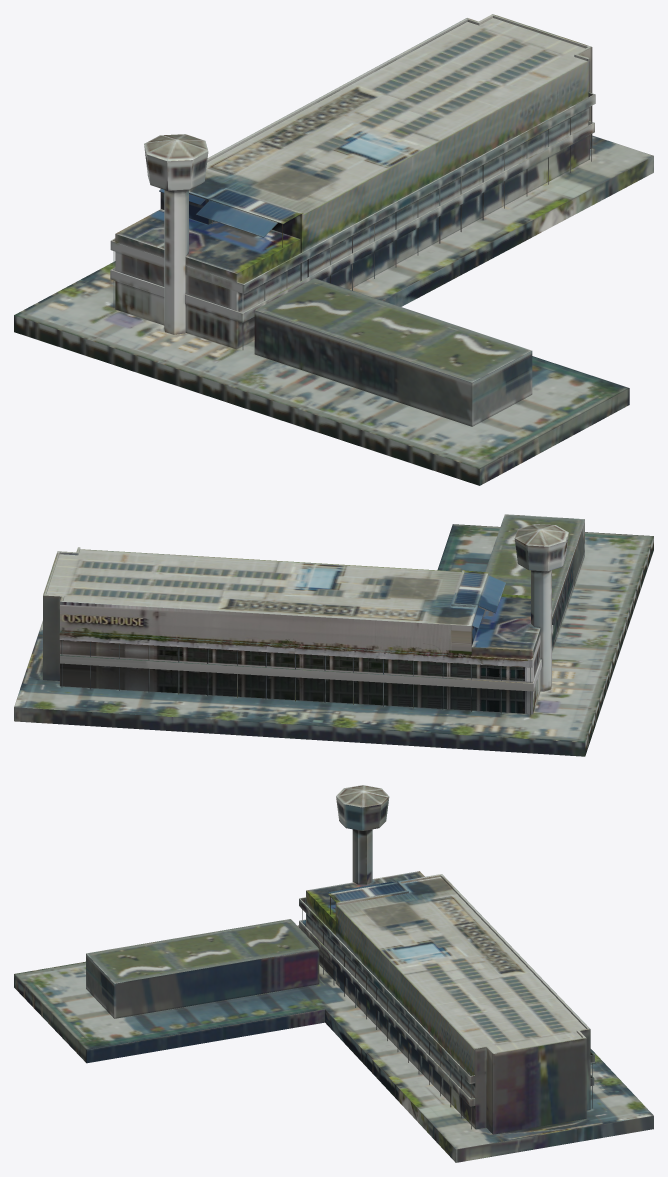
3 renders of one model, top to bottom at view 1: azimuth 30°, elevation 25°; view 2: azimuth 150°, elevation 25°; view 3: azimuth 270°, elevation 25°, orthographic. The views are drawn at different scales.
Parts seen in each view (by area): view 1: 8_0.glb; view 2: 8_0.glb; view 3: 8_0.glb.
Boxes of the visible parts, <box> form: 8_0.glb: <box>14,14,653,485</box>; 8_0.glb: <box>14,514,653,756</box>; 8_0.glb: <box>14,785,653,1162</box>.
Size of the model in its own units: 76.3 by 23.34 by 82.53.
Materials: 2 (2 with a texture image).
